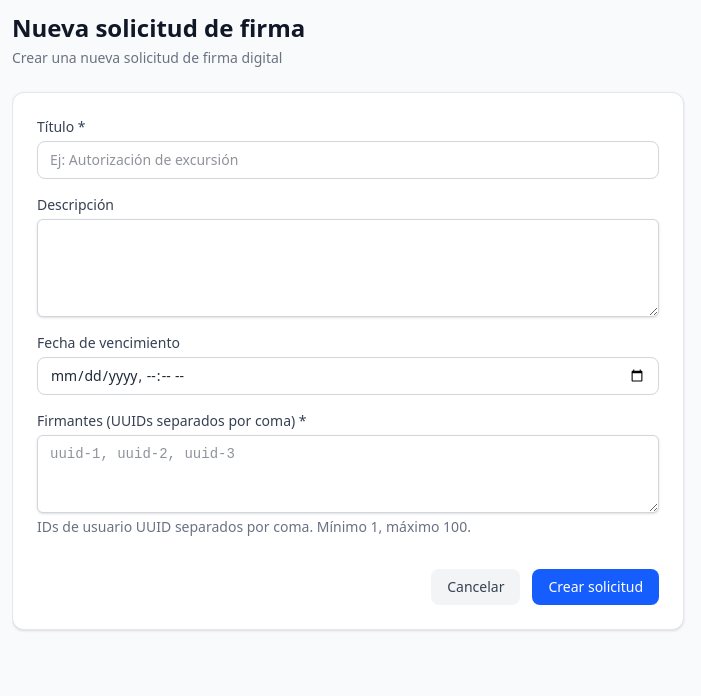
SignatureFormPage › validates required title
Click the button "Crear solicitud" at x=596, y=587, box [532,569,659,605]
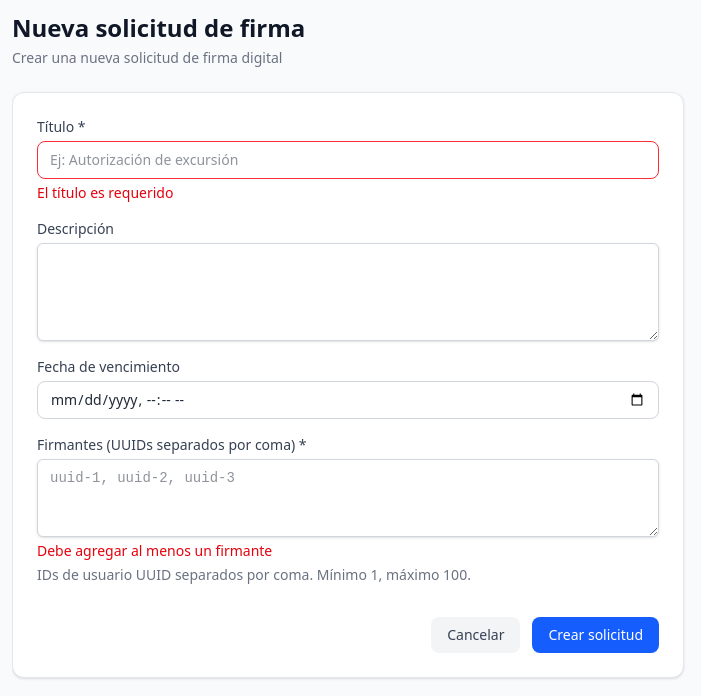
Result: the text "El título es requerido" is shown at [37,183,173,202]
